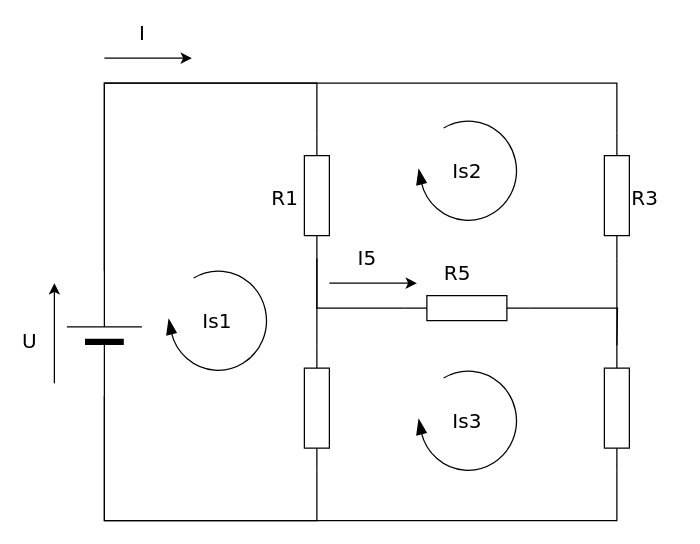
Some shapes in this 700 by 544 pixel diagram are drawn without their labels. Each missing label, with the centre of its shape:
R2: point 316,407
R4: point 616,407
